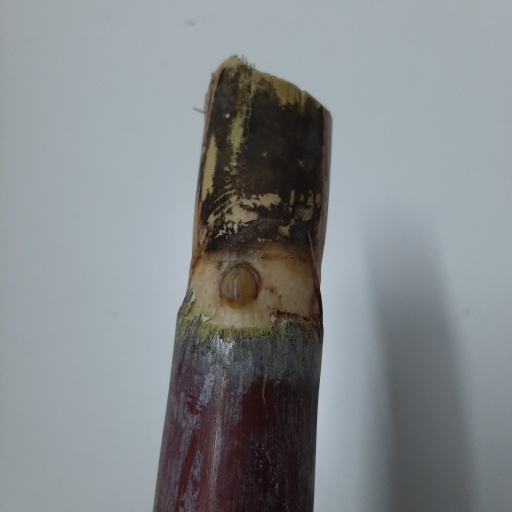Bud: (219, 262, 260, 311)
